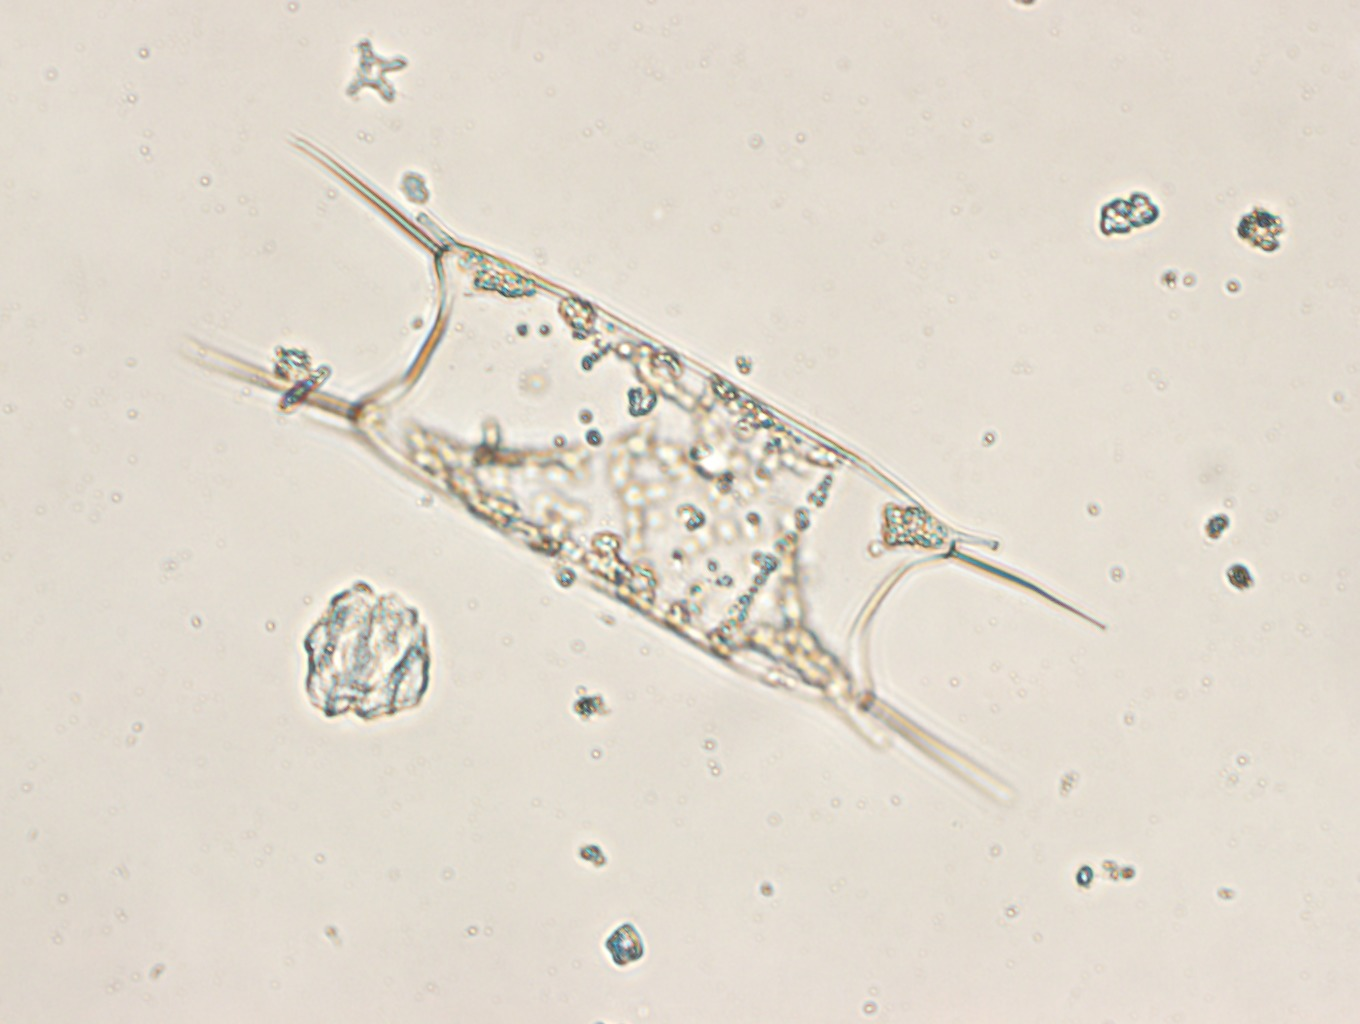biddulphia: (185, 130, 1108, 795)
